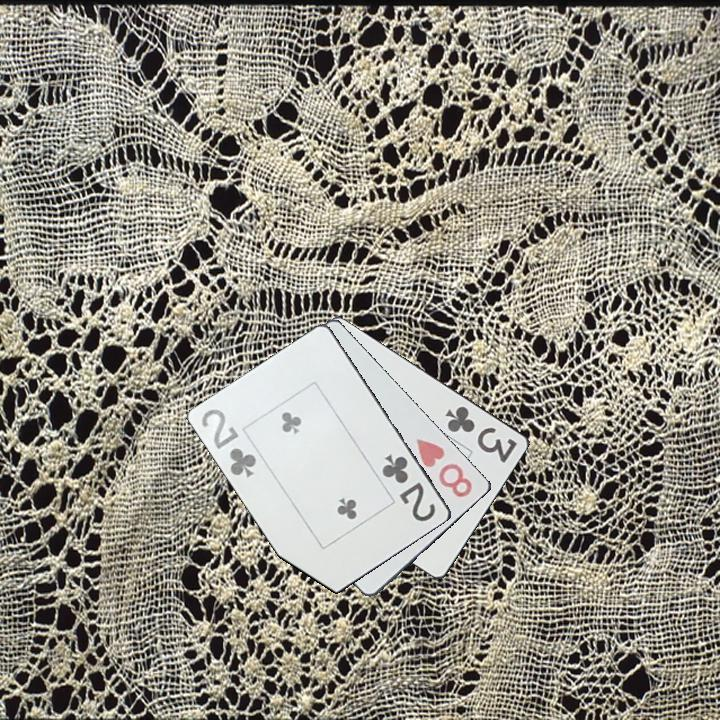2c: (198, 405, 260, 481), (378, 450, 439, 525)
3c: (441, 402, 520, 466)
8h: (412, 435, 476, 500)
